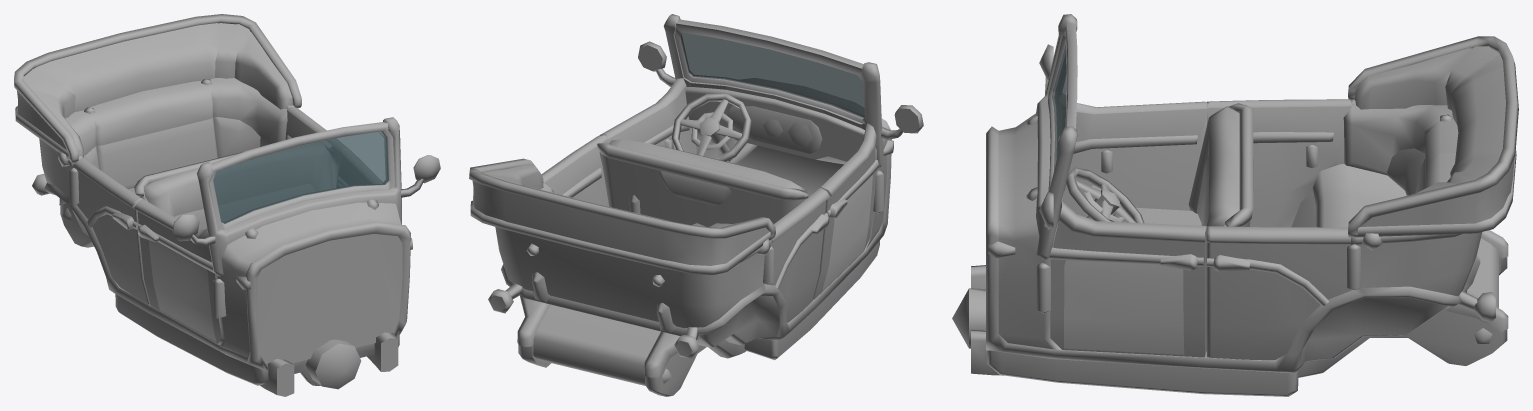
File: Body_Phaeton_NoRoof.fbx
3 views of the same model, side by side, from view 1: azimuth 30°, elevation 25°; view 2: azimuth 150°, elevation 25°; view 3: azimuth 270°, elevation 25° (orthographic). The views are drawn at different scales.
Parts seen in each view (by area): view 1: Phaeton_NoRoof_Body, Phaeton_NoRoof_Body_Roof_Folded, Phaeton_NoRoof_Body_Window, Phaeton_NoRoof_Body_Door_Rear_Right, Phaeton_NoRoof_Body_Door_Front_Right_Decal, Phaeton_NoRoof_Body_Door_Front_Right, Phaeton_NoRoof_Body_Door_Rear_Left, Phaeton_NoRoof_Body_Door_Front_Left; view 2: Phaeton_NoRoof_Body, Phaeton_NoRoof_Body_Roof_Folded, Phaeton_NoRoof_Body_Window, Phaeton_NoRoof_Body_Door_Rear_Right, Phaeton_NoRoof_Body_Door_Front_Right, Phaeton_NoRoof_Body_SteerWheel, Phaeton_NoRoof_Body_Door_Front_Left, Phaeton_NoRoof_Body_Door_Rear_Left, Phaeton_NoRoof_Body_Door_Front_Right_Decal; view 3: Phaeton_NoRoof_Body, Phaeton_NoRoof_Body_Roof_Folded, Phaeton_NoRoof_Body_Door_Rear_Left, Phaeton_NoRoof_Body_Door_Front_Right, Phaeton_NoRoof_Body_Door_Front_Left_Decal, Phaeton_NoRoof_Body_Door_Front_Left, Phaeton_NoRoof_Body_Door_Rear_Right, Phaeton_NoRoof_Body_SteerWheel, Phaeton_NoRoof_Body_Window.
Part boxes in pixels (left/top/right/bottom): Phaeton_NoRoof_Body: left=32, top=78, right=440, bottom=396; Phaeton_NoRoof_Body_Roof_Folded: left=14, top=14, right=301, bottom=166; Phaeton_NoRoof_Body_Window: left=213, top=131, right=388, bottom=223; Phaeton_NoRoof_Body_Door_Rear_Right: left=73, top=157, right=150, bottom=304; Phaeton_NoRoof_Body_Door_Front_Right_Decal: left=149, top=240, right=216, bottom=341; Phaeton_NoRoof_Body_Door_Front_Right: left=134, top=199, right=221, bottom=343; Phaeton_NoRoof_Body_Door_Rear_Left: left=285, top=106, right=349, bottom=166; Phaeton_NoRoof_Body_Door_Front_Left: left=336, top=150, right=382, bottom=187; Phaeton_NoRoof_Body: left=488, top=14, right=923, bottom=396; Phaeton_NoRoof_Body_Roof_Folded: left=469, top=158, right=775, bottom=274; Phaeton_NoRoof_Body_Window: left=680, top=32, right=864, bottom=118; Phaeton_NoRoof_Body_Door_Rear_Right: left=767, top=187, right=830, bottom=322; Phaeton_NoRoof_Body_Door_Front_Right: left=813, top=123, right=879, bottom=299; Phaeton_NoRoof_Body_SteerWheel: left=671, top=93, right=751, bottom=164; Phaeton_NoRoof_Body_Door_Front_Left: left=600, top=78, right=696, bottom=154; Phaeton_NoRoof_Body_Door_Rear_Left: left=541, top=134, right=609, bottom=206; Phaeton_NoRoof_Body_Door_Front_Right_Decal: left=822, top=175, right=872, bottom=290; Phaeton_NoRoof_Body: left=952, top=14, right=1508, bottom=396; Phaeton_NoRoof_Body_Roof_Folded: left=1348, top=36, right=1518, bottom=250; Phaeton_NoRoof_Body_Door_Rear_Left: left=1206, top=226, right=1351, bottom=360; Phaeton_NoRoof_Body_Door_Front_Right: left=1061, top=93, right=1207, bottom=219; Phaeton_NoRoof_Body_Door_Front_Left_Decal: left=1064, top=260, right=1184, bottom=354; Phaeton_NoRoof_Body_Door_Front_Left: left=1047, top=200, right=1206, bottom=357; Phaeton_NoRoof_Body_Door_Rear_Right: left=1206, top=99, right=1351, bottom=227; Phaeton_NoRoof_Body_SteerWheel: left=1066, top=167, right=1144, bottom=223; Phaeton_NoRoof_Body_Window: left=1052, top=45, right=1066, bottom=170.
Bounding box in the file's own units: 198 × 160 × 290.
